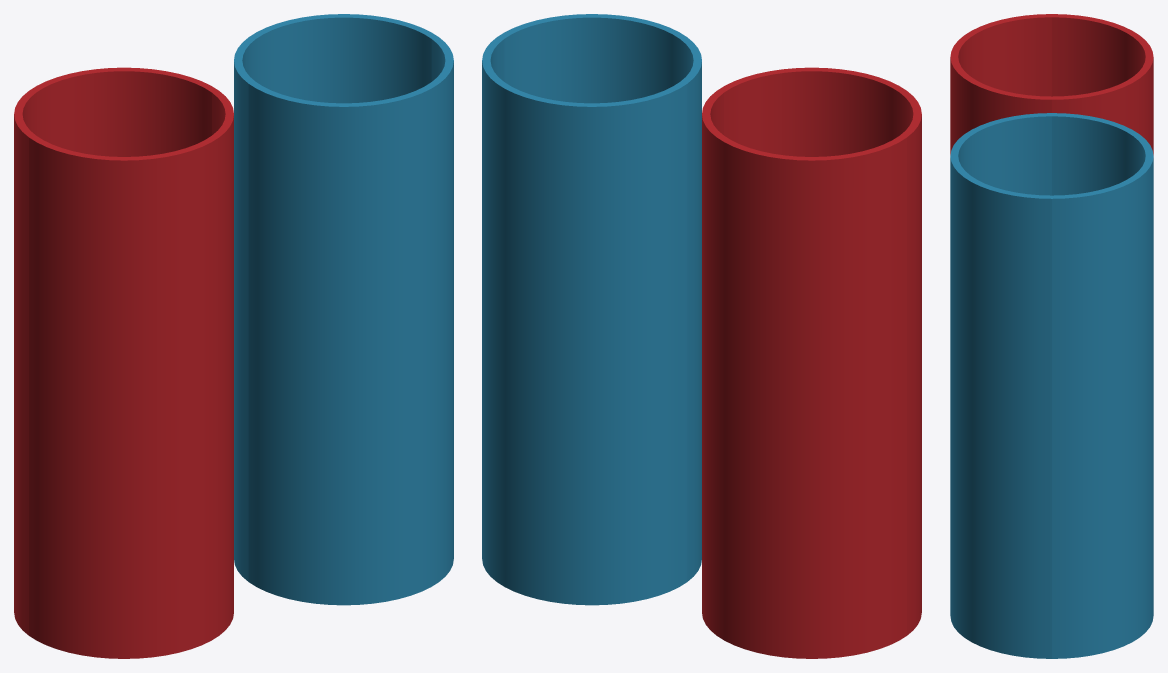
The model's file is nitrogen_generation_system_pressure.glb.
The picture shows the model from 3 angles, left to right: view 1: azimuth 30°, elevation 25°; view 2: azimuth 150°, elevation 25°; view 3: azimuth 270°, elevation 25°; orthographic projection. The views are drawn at different scales.
Parts seen in each view (by area): view 1: pressure__front, pressure__back; view 2: pressure__back, pressure__front; view 3: pressure__back, pressure__front.
Boxes of the visible parts, x1,y1,x2,y2 form: pressure__front: (29,37,453,658); pressure__back: (14,14,438,635); pressure__back: (482,37,906,658); pressure__front: (497,14,921,635); pressure__back: (1052,14,1153,658); pressure__front: (950,14,1051,658).
Size of the model in its own units: 1.12 by 1.3 by 0.52.
